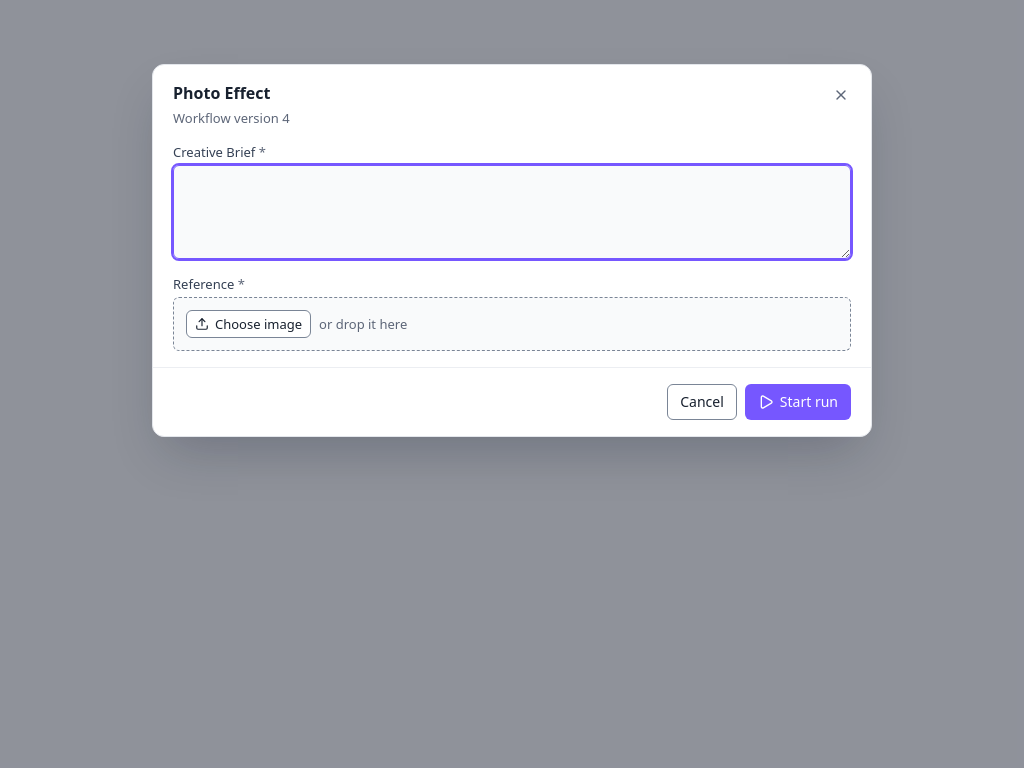
it: RunInputDialog › sums up two or more errors above the form
Click the button "Start run": click(798, 402) [745,384,851,420]
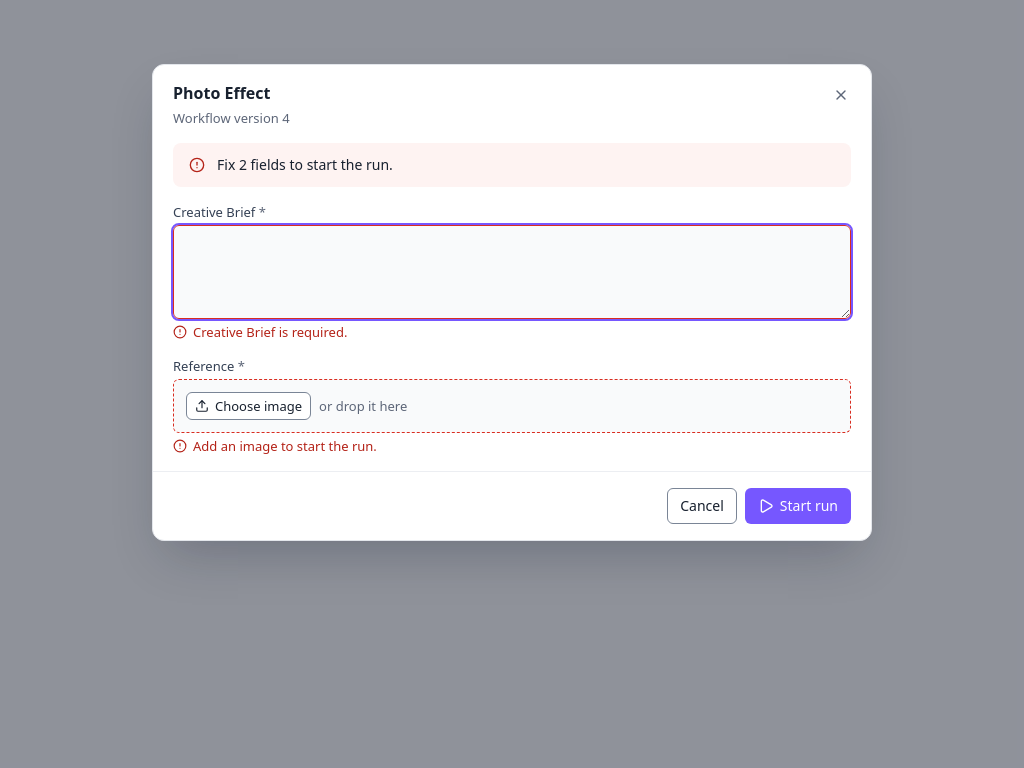
Expected: the message reads "Fix 2 fields to start the run.", [217,155,393,174]
Expected: the text "Add an image to start the run." is shown, [173,437,377,455]
